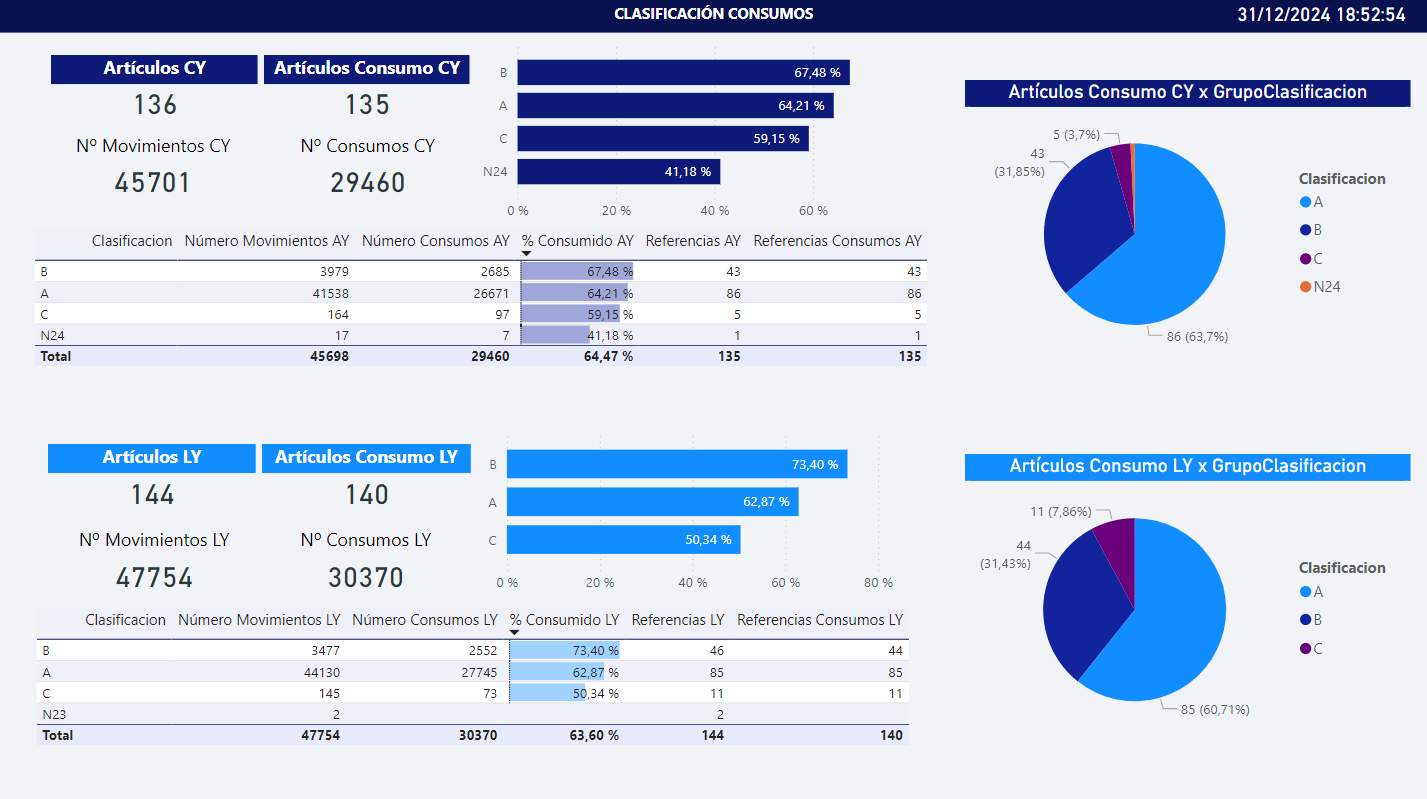

The dashboard page shown, as its layout file describes it:
{"tool":"powerbi","page":{"name":"D. Clasificación Consumos","canvas":[1280,720],"ordinal":3},"visuals":[{"type":"textbox","box":[0,0,1280,31.1],"z":2000},{"type":"card","fields":{"Values":["Min(Actualizacion.Last Refresh Date Time)"]},"box":[1089.4,0,190.6,31.1],"z":3000},{"type":"card","title":"Artículos CY","fields":{"Values":["movimientos_almacenes.Referencias AY"]},"box":[47,50.8,185.5,65.5],"z":5000},{"type":"card","title":"Artículos Consumo CY","fields":{"Values":["movimientos_almacenes.Referencias Consumos AY"]},"box":[237.3,51,184.5,65.4],"z":6000},{"type":"barChart","title":"% Reserva CY","fields":{"Y":["movimientos_almacenes.% Consumido AY"],"Category":["movimientos_almacenes.Clasificacion"]},"box":[425.4,30.4,400.3,178.2],"z":7000},{"type":"barChart","title":"% Reserva LY","fields":{"Y":["movimientos_almacenes.% Consumido LY"],"Category":["movimientos_almacenes.Clasificacion"]},"box":[429.9,377.9,395.8,163.9],"z":8000},{"type":"card","title":"Artículos LY","fields":{"Values":["movimientos_almacenes.Referencias LY"]},"box":[44.3,399.8,185.9,65.6],"z":9000},{"type":"card","title":"Artículos Consumo LY","fields":{"Values":["movimientos_almacenes.Referencias Consumos LY"]},"box":[235.6,399.8,186.8,65.6],"z":10000},{"type":"card","title":"Nº Movimientos LY","fields":{"Values":["movimientos_almacenes.Número Movimientos LY"]},"box":[45.3,473.4,186.5,65.8],"z":11000},{"type":"card","title":"Nº Consumos LY","fields":{"Values":["movimientos_almacenes.Número Consumos LY"]},"box":[235.6,473.6,185.9,65.6],"z":12000},{"type":"card","title":"Nº Movimientos CY","fields":{"Values":["movimientos_almacenes.Número Movimientos AY"]},"box":[45.2,120.8,186.4,65.5],"z":13000},{"type":"card","title":"Nº Consumos CY","fields":{"Values":["movimientos_almacenes.Número Consumos AY"]},"box":[237,120.8,185.5,64.5],"z":14000},{"type":"tableEx","fields":{"Values":["movimientos_almacenes.Clasificacion","movimientos_almacenes.Número Movimientos LY","movimientos_almacenes.Número Consumos LY","movimientos_almacenes.% Consumido LY","movimientos_almacenes.Referencias LY","movimientos_almacenes.Referencias Consumos LY"]},"box":[27.8,541.8,831,173.7],"z":15000},{"type":"pieChart","title":"Artículos Reserva CY x GrupoClasificacion","fields":{"Category":["movimientos_almacenes.Clasificacion"],"Y":["movimientos_almacenes.Referencias Consumos AY"]},"box":[865,73.7,398.9,257.1],"z":16000},{"type":"pieChart","title":"Artículos Reserva LY x GrupoClasificacion","fields":{"Category":["movimientos_almacenes.Clasificacion"],"Y":["movimientos_almacenes.Referencias Consumos LY"]},"box":[865,408.4,398.9,260],"z":17000},{"type":"tableEx","fields":{"Values":["movimientos_almacenes.Clasificacion","movimientos_almacenes.Número Movimientos AY","movimientos_almacenes.Número Consumos AY","movimientos_almacenes.% Consumido AY","movimientos_almacenes.Referencias AY","movimientos_almacenes.Referencias Consumos AY"]},"box":[26,202.4,826.6,175.5],"z":18000}]}

Visuals, with their boxes in screenshot pixels (x1, y1, x2, y2), scaled from the page's 1280x720 canvas onto the 1427x799 screenshot:
textbox: BBox(0, 0, 1426, 35)
card - Min(Actualizacion.Last Refresh Date Time): BBox(1215, 0, 1426, 35)
"Artículos CY" card: BBox(52, 56, 259, 129)
"Artículos Consumo CY" card: BBox(265, 57, 470, 129)
"% Reserva CY" barChart: BBox(474, 34, 921, 231)
"% Reserva LY" barChart: BBox(479, 419, 921, 601)
"Artículos LY" card: BBox(49, 444, 257, 516)
"Artículos Consumo LY" card: BBox(263, 444, 471, 516)
"Nº Movimientos LY" card: BBox(51, 525, 258, 598)
"Nº Consumos LY" card: BBox(263, 526, 470, 598)
"Nº Movimientos CY" card: BBox(50, 134, 258, 207)
"Nº Consumos CY" card: BBox(264, 134, 471, 206)
tableEx - movimientos_almacenes.Clasificacion x movimientos_almacenes.Número Movimientos LY: BBox(31, 601, 957, 794)
"Artículos Reserva CY x GrupoClasificacion" pieChart: BBox(964, 82, 1409, 367)
"Artículos Reserva LY x GrupoClasificacion" pieChart: BBox(964, 453, 1409, 742)
tableEx - movimientos_almacenes.Clasificacion x movimientos_almacenes.Número Movimientos AY: BBox(29, 225, 951, 419)
